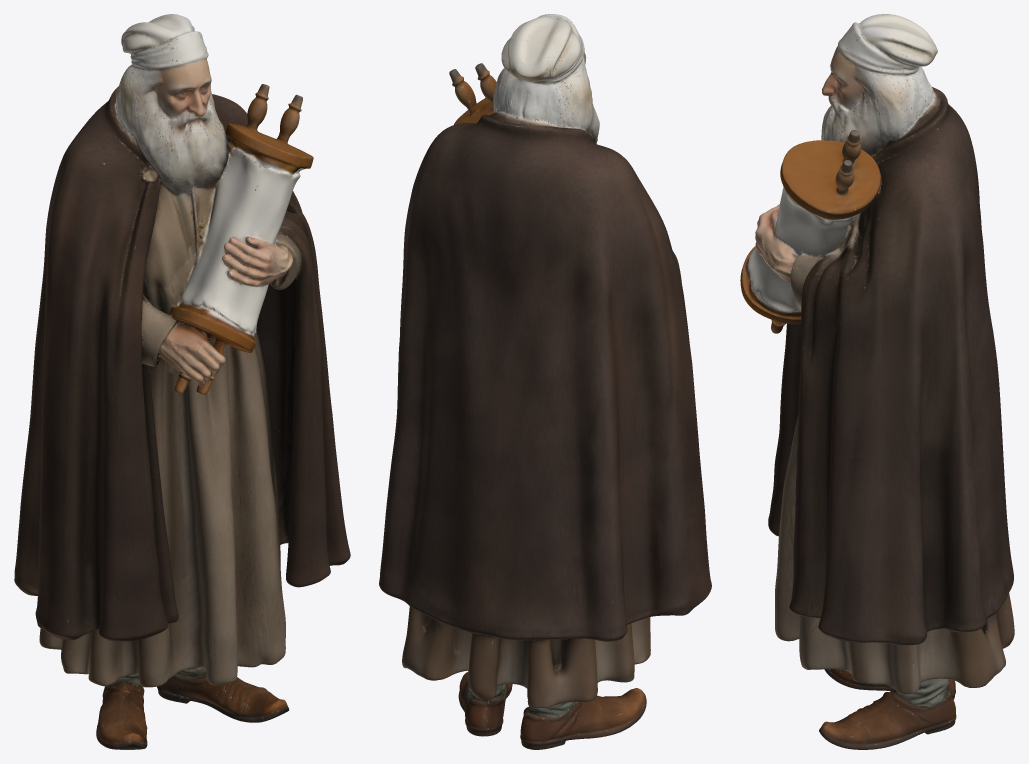
File: new_rashi.glb
3 views of the same model, side by side, from view 1: azimuth 30°, elevation 25°; view 2: azimuth 150°, elevation 25°; view 3: azimuth 270°, elevation 25° (orthographic). The views are drawn at different scales.
Bounding box in the file's own units: 0.8923 × 2 × 0.7243.
Materials: 1 (1 with a texture image).
